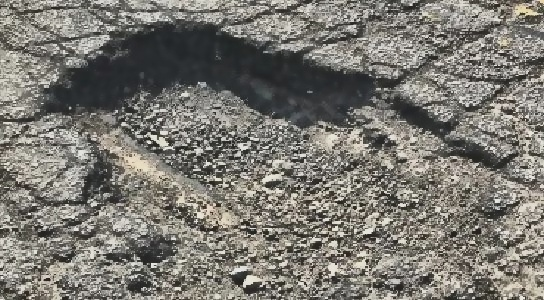pothole: (35, 18, 530, 299)
